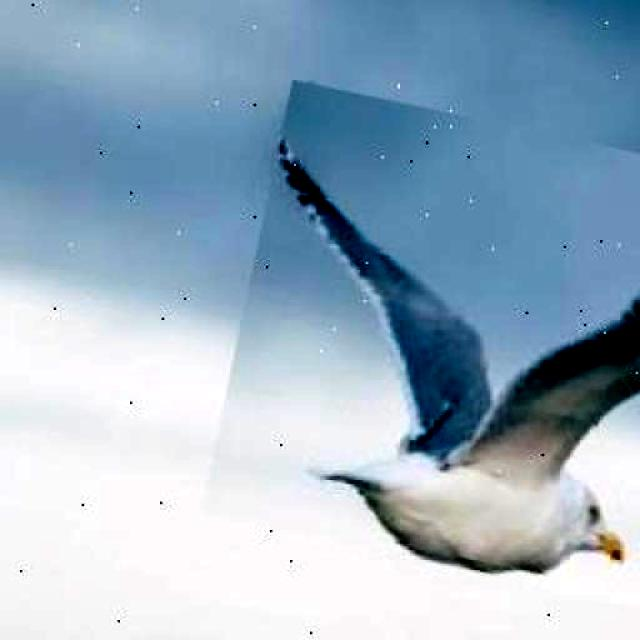airplane: (199, 80, 640, 614)
